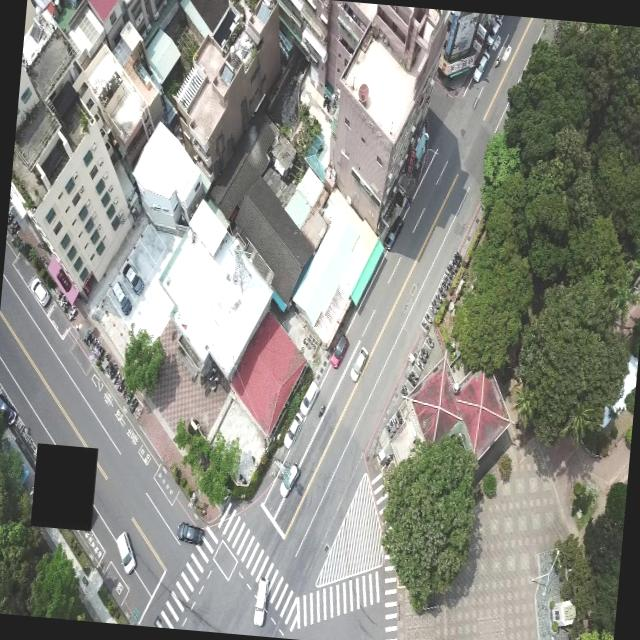car: (106, 268, 134, 326), (113, 529, 138, 575), (250, 574, 271, 626), (27, 274, 52, 308), (298, 379, 320, 417), (384, 214, 406, 252), (278, 460, 300, 497), (121, 260, 145, 292), (329, 334, 349, 371), (176, 520, 204, 546), (350, 345, 370, 381), (283, 414, 303, 448), (471, 48, 490, 82), (0, 390, 18, 425), (484, 18, 502, 47)
